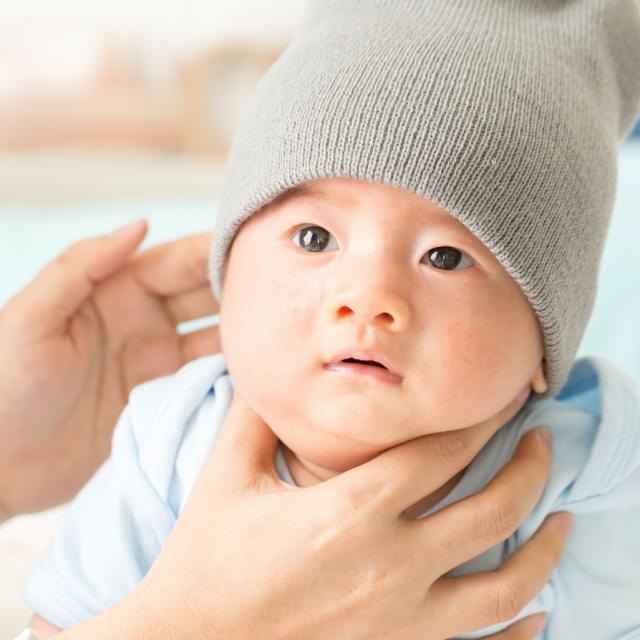non-dog: (28, 3, 640, 640)
